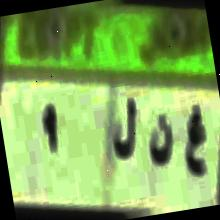9: (36, 96, 64, 156)
ghayn: (176, 96, 212, 188)
laam: (105, 80, 144, 170)
noon: (145, 111, 178, 176)
